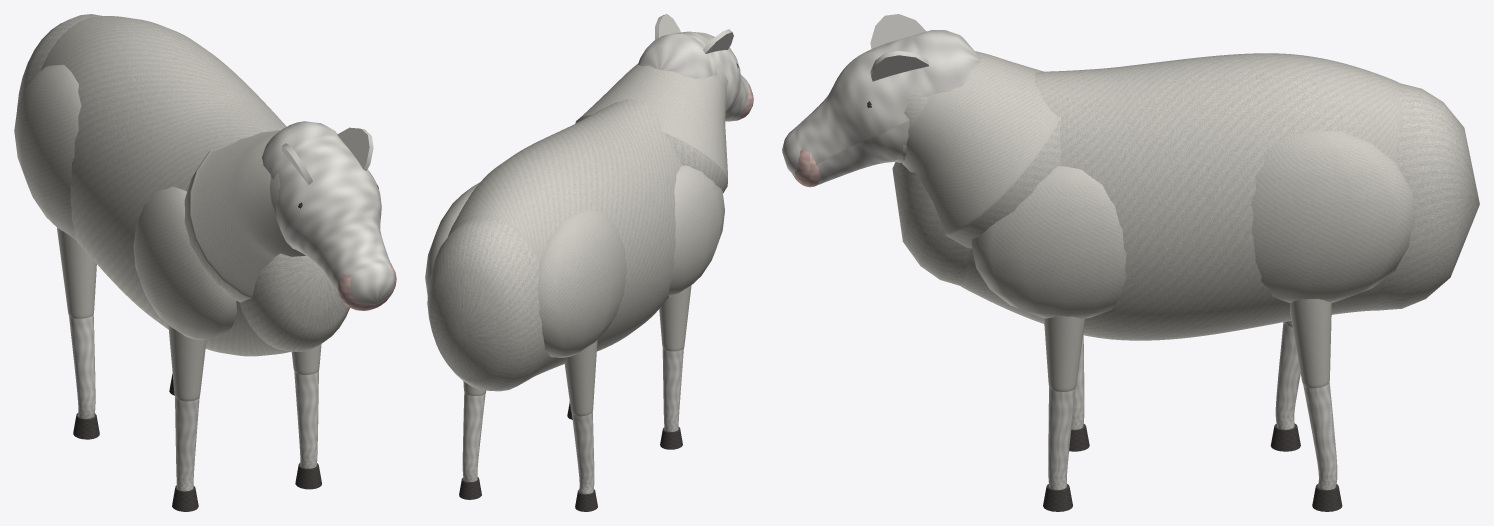
Rendered from farm-and-working-animals-hd-lamb-d16fc426__29190.glb.
The picture shows the model from 3 angles, left to right: view 1: azimuth 30°, elevation 25°; view 2: azimuth 150°, elevation 25°; view 3: azimuth 270°, elevation 25°; orthographic projection. The views are drawn at different scales.
Visible parts, largest first — view 1: lamb; view 2: lamb; view 3: lamb.
Part boxes in pixels (box(x1,y1,x2,y2)): lamb: box(14, 14, 396, 511); lamb: box(425, 14, 753, 511); lamb: box(782, 14, 1479, 511).
Bounding box in the file's own units: 0.2592 × 0.5435 × 0.7752.
4 materials, 4 textured.
